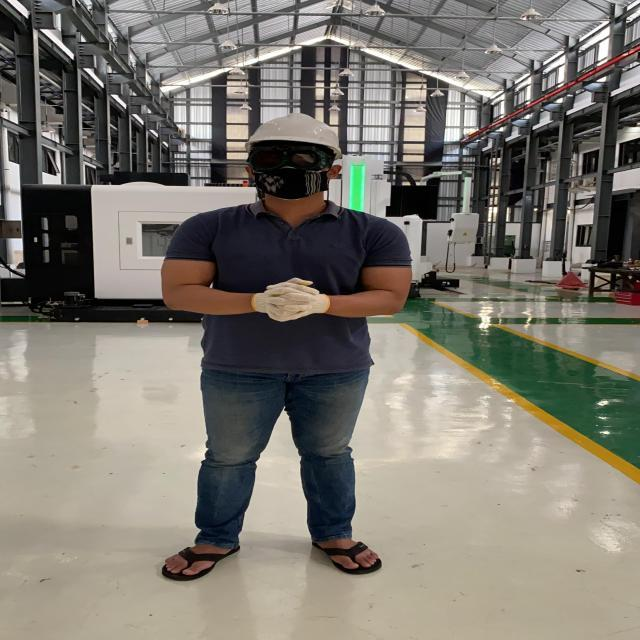glasses: (242, 142, 336, 172)
